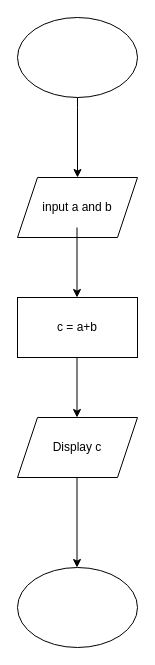
The diagram is 155 pixels wide and 665 high, and some of its shapes have lost their labels. Each missing label, with the centre of its shape:
End: point 77,607
Start: point 77,57
